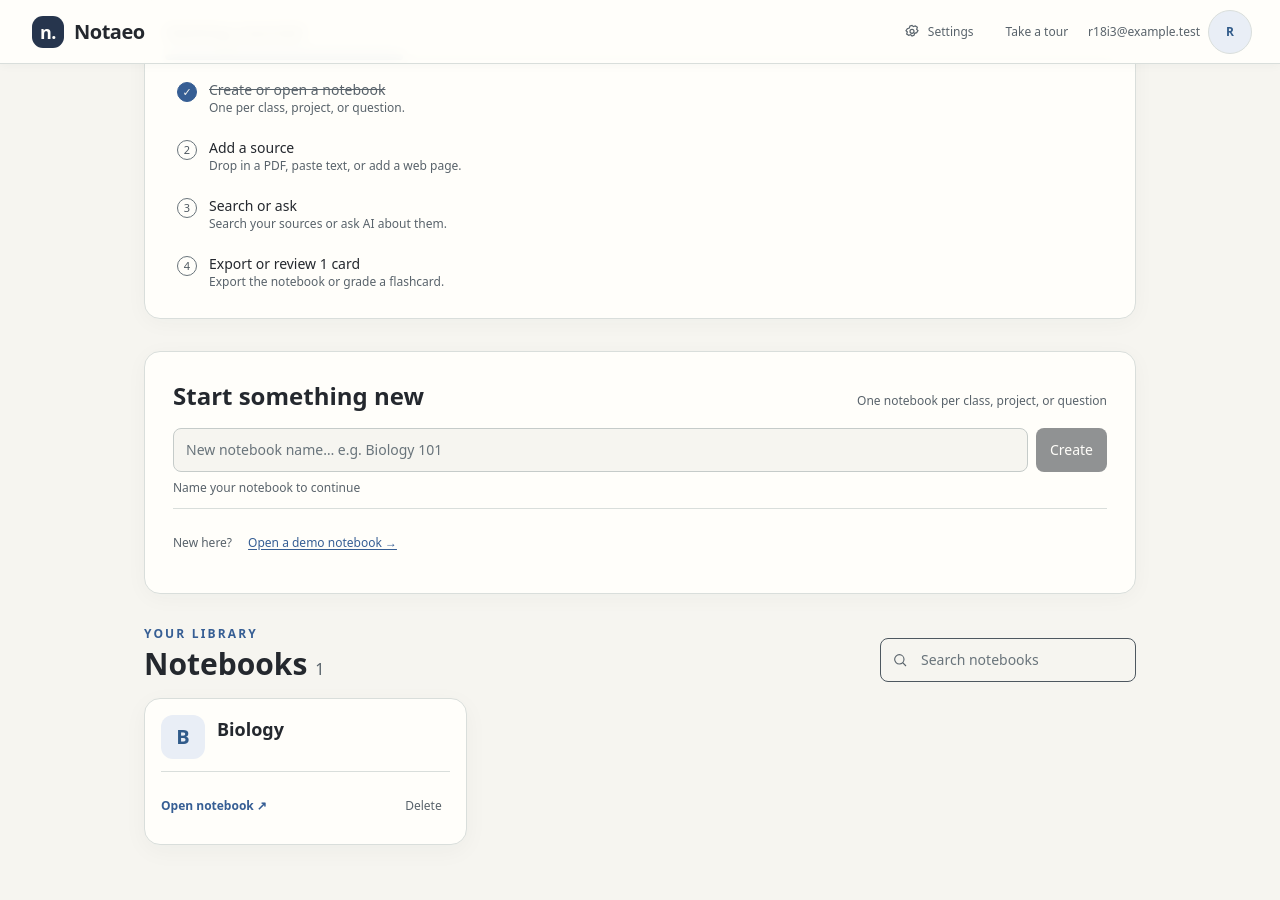
Test: names the add-sources card so the post-create focus target is announced
(page scrolled)
Step 1. Click the button with aria-label "Open Biology" → (183, 737), box [161,715,450,759]
(page scrolled)
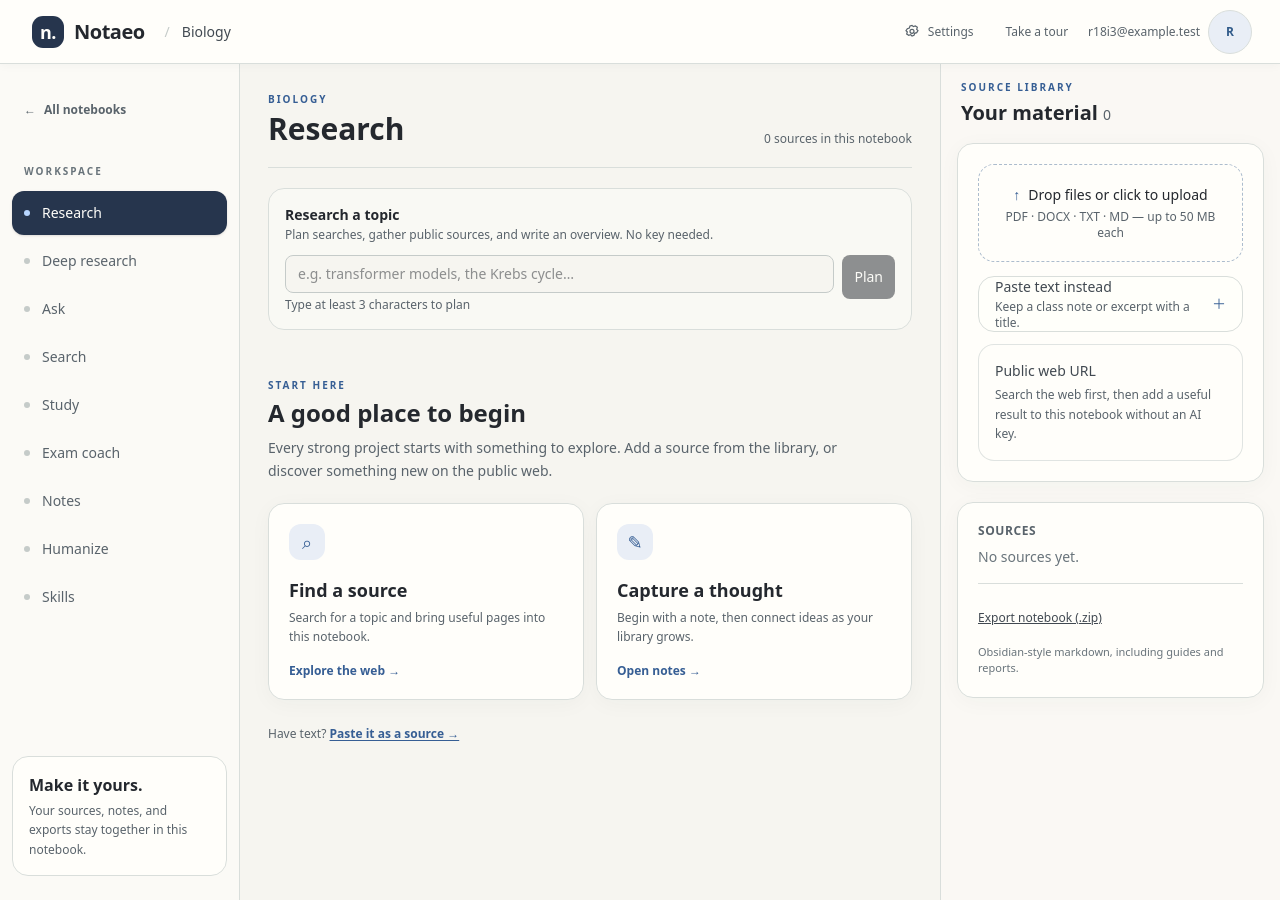
expect the button "Export notebook (.zip)" is shown: met, box [978,596,1102,640]
expect the element named "Add sources" is shown: met, box [957,143,1264,482]
